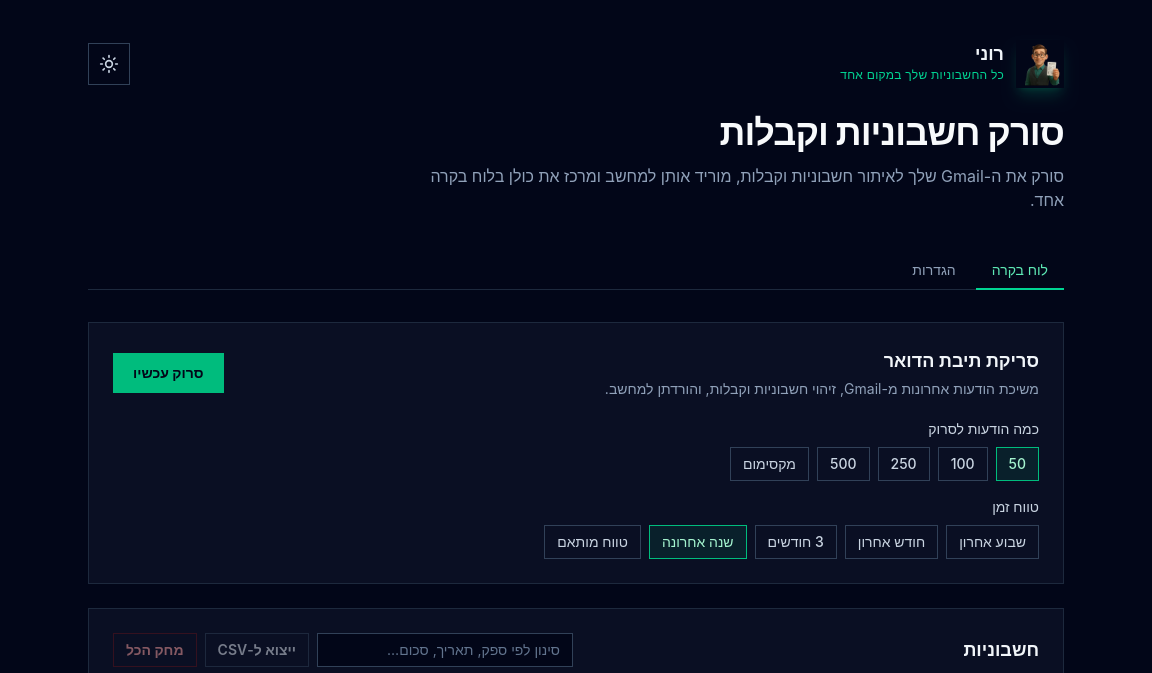
Test: App.vue — RONY-14 Scan now › shows the RONY-17 filtered-files count when documents were rejected
Click the button "סרוק עכשיו". click: (168, 373)
box: [113,353,224,393]
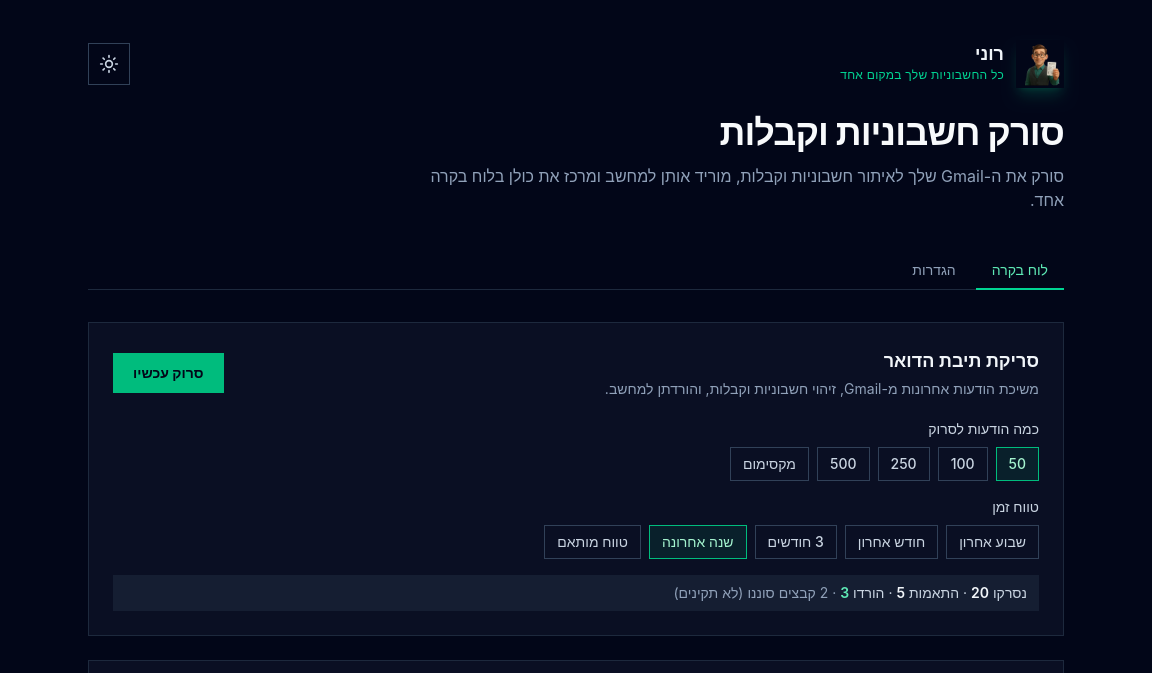
Check: the text "2 קבצים סוננו" is shown, box [674,584,840,601]
